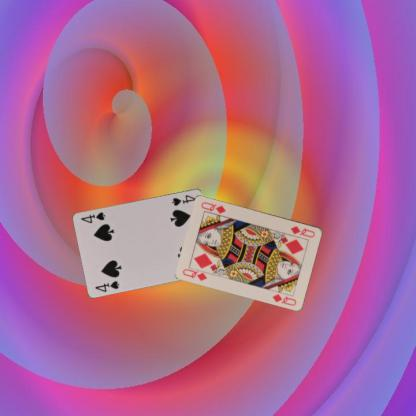4s: (169, 192, 198, 207), (92, 278, 121, 293)
Qd: (180, 264, 212, 282), (288, 223, 316, 239)
